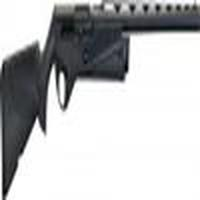gun: (2, 3, 200, 147)
